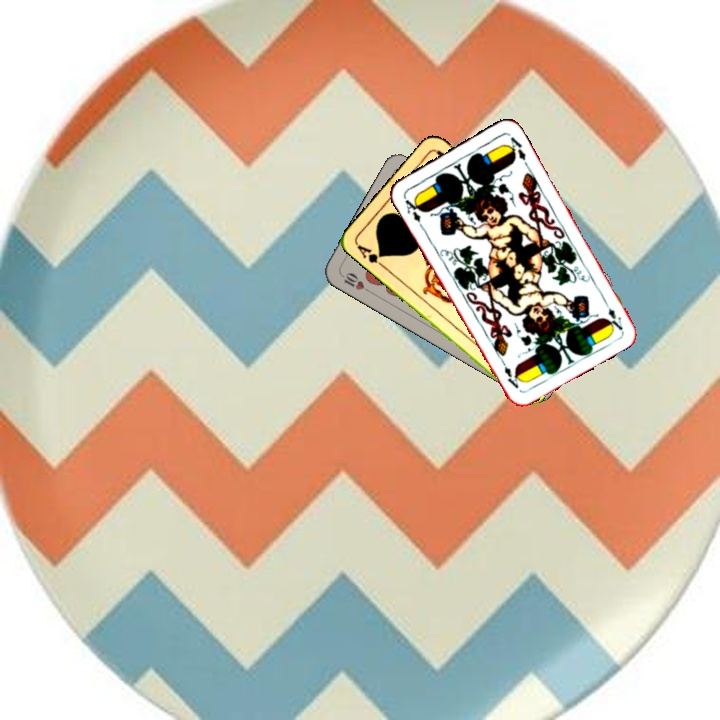EA: (599, 295, 626, 333), (400, 193, 425, 225)
GA: (353, 240, 387, 270)
H10: (337, 268, 374, 295)
